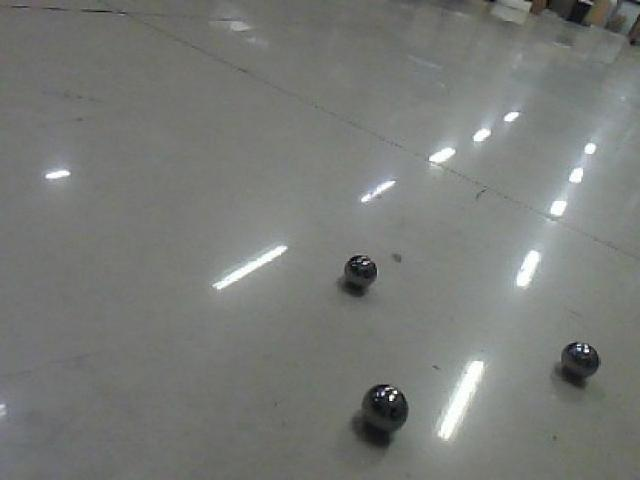steel-ball: (354, 366, 423, 440), (555, 322, 608, 388), (336, 237, 382, 306)
